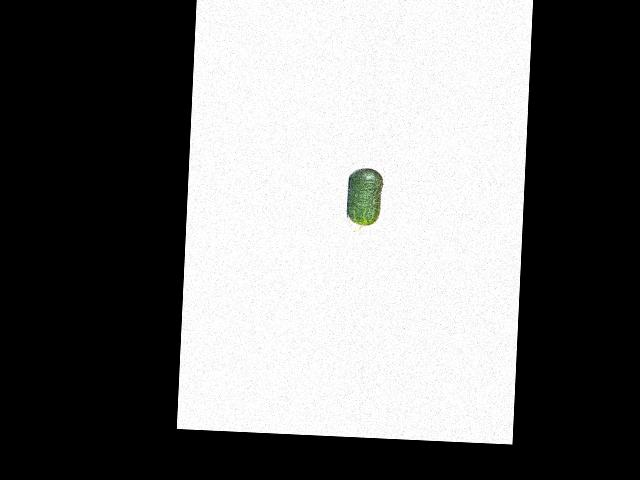cucumber: (346, 167, 383, 233)
